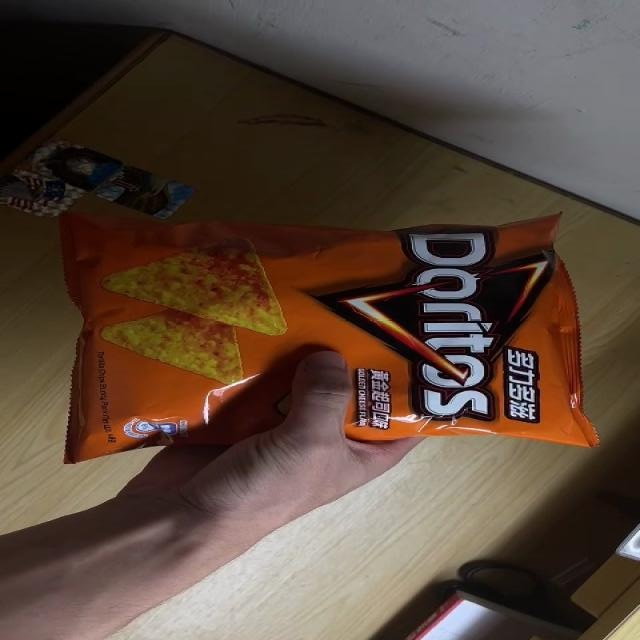Doritos: (58, 209, 600, 466)
